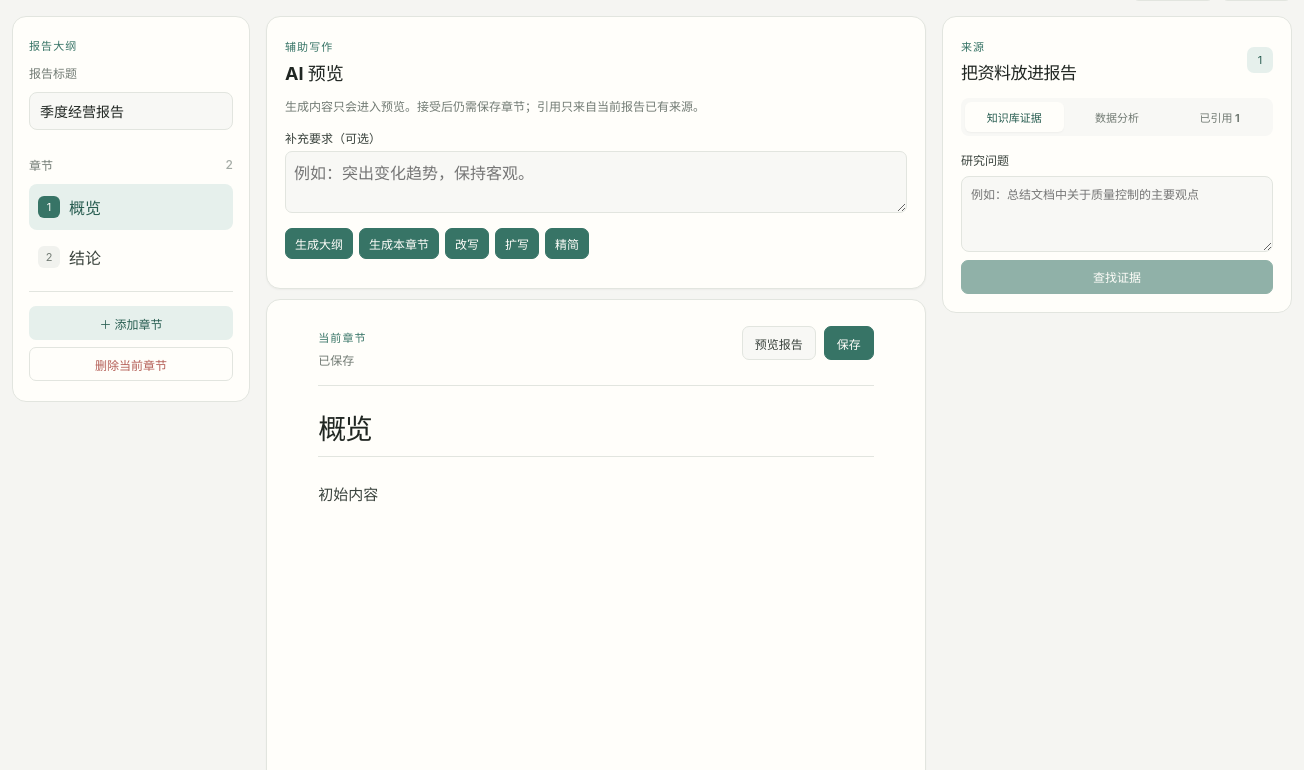
Scenario: ReportWorkspaceView › ignores a late AI response after switching reports
Click the button "生成本章节".
click(399, 244)  # box x1=359 y1=228 x2=439 y2=259
(page scrolled)
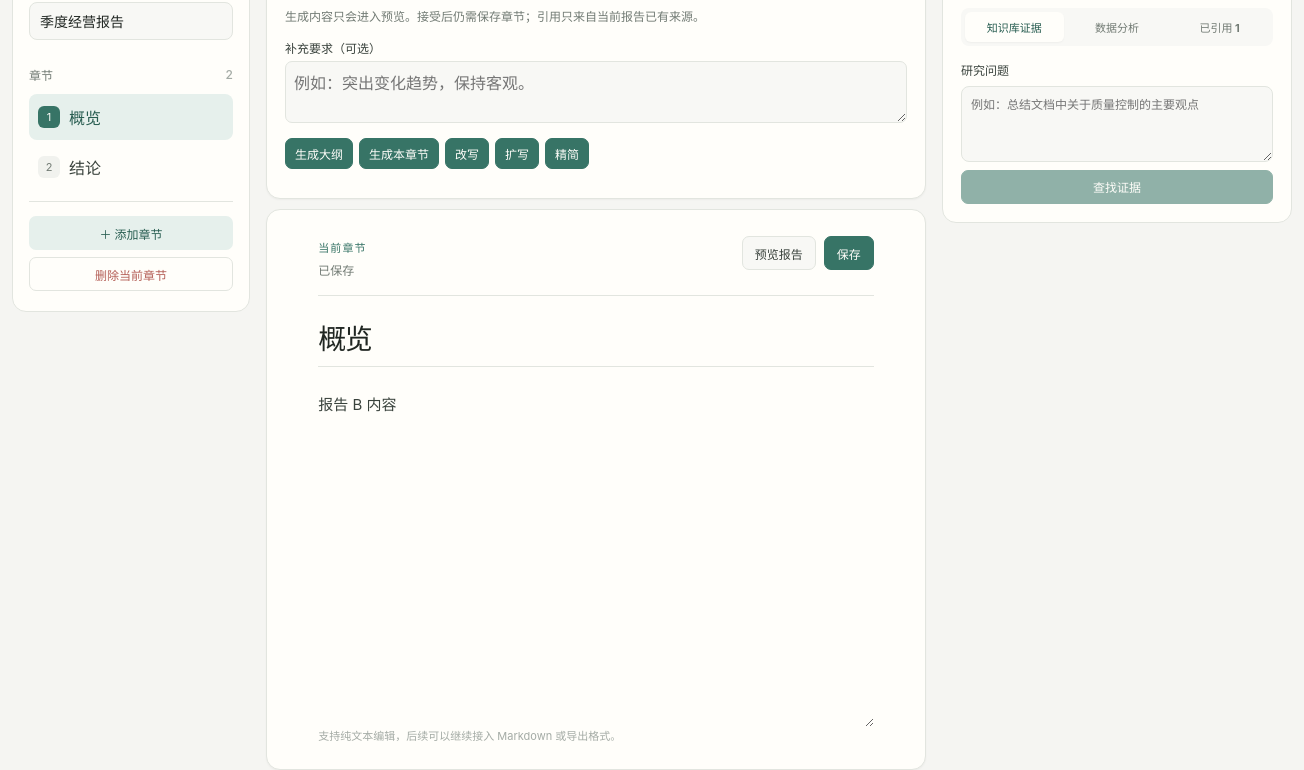
Result: the text box with class "report-editor__textarea" holds "报告 B 内容" at x1=318 y1=367 x2=874 y2=727
